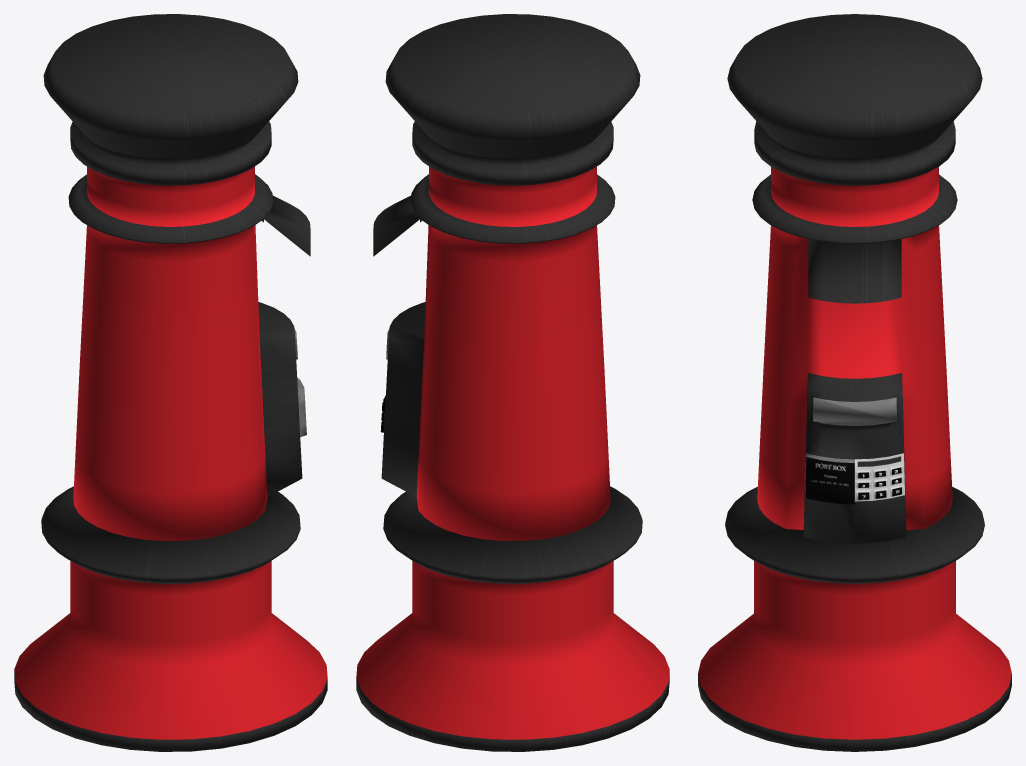
Rendered from PostboxRed.glb.
3 renders of one model, left to right at view 1: azimuth 30°, elevation 25°; view 2: azimuth 150°, elevation 25°; view 3: azimuth 270°, elevation 25°, orthographic.
Parts seen in each view (by area): view 1: Post Box; view 2: Post Box; view 3: Post Box.
Boxes of the visible parts, x1,y1,x2,y2 form: Post Box: (14,14,327,751); Post Box: (356,14,669,751); Post Box: (698,14,1011,751).
Bounding box in the file's own units: 0.7666 × 1.67 × 0.7666.
5 materials, 3 textured.
